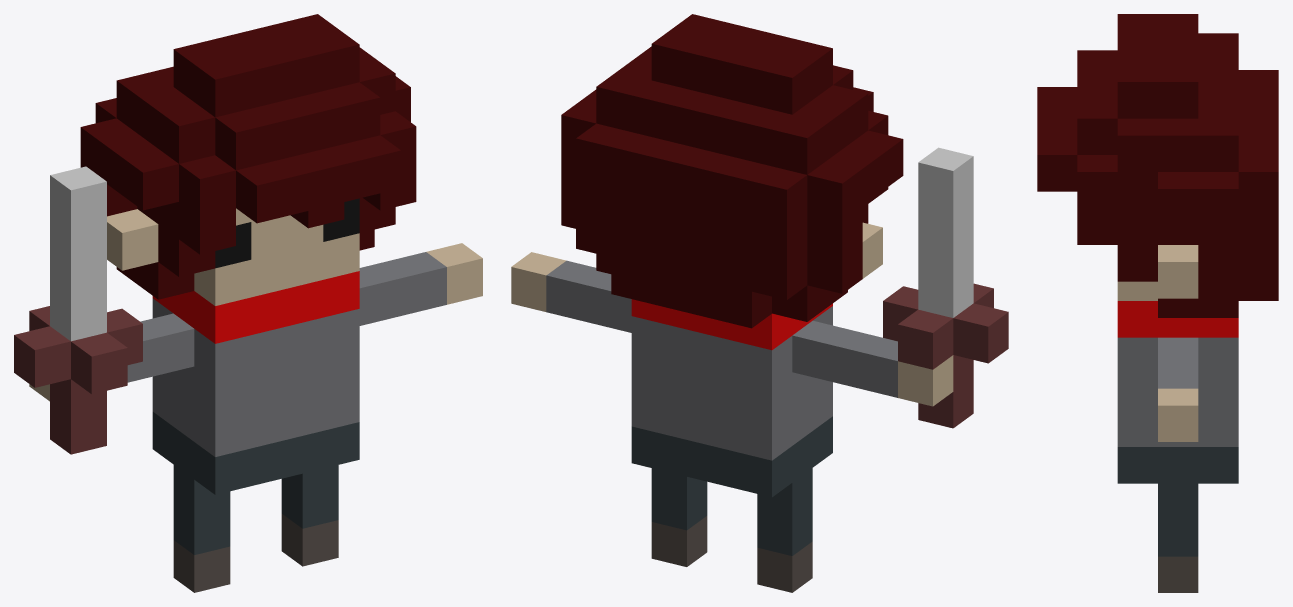
The model's file is pLAYER.obj.
3 views of the same model, side by side, from view 1: azimuth 30°, elevation 25°; view 2: azimuth 150°, elevation 25°; view 3: azimuth 270°, elevation 25° (orthographic). The views are drawn at different scales.
Size of the model in its own units: 1.3 by 1.4 by 0.6.
1 material, 1 textured.
